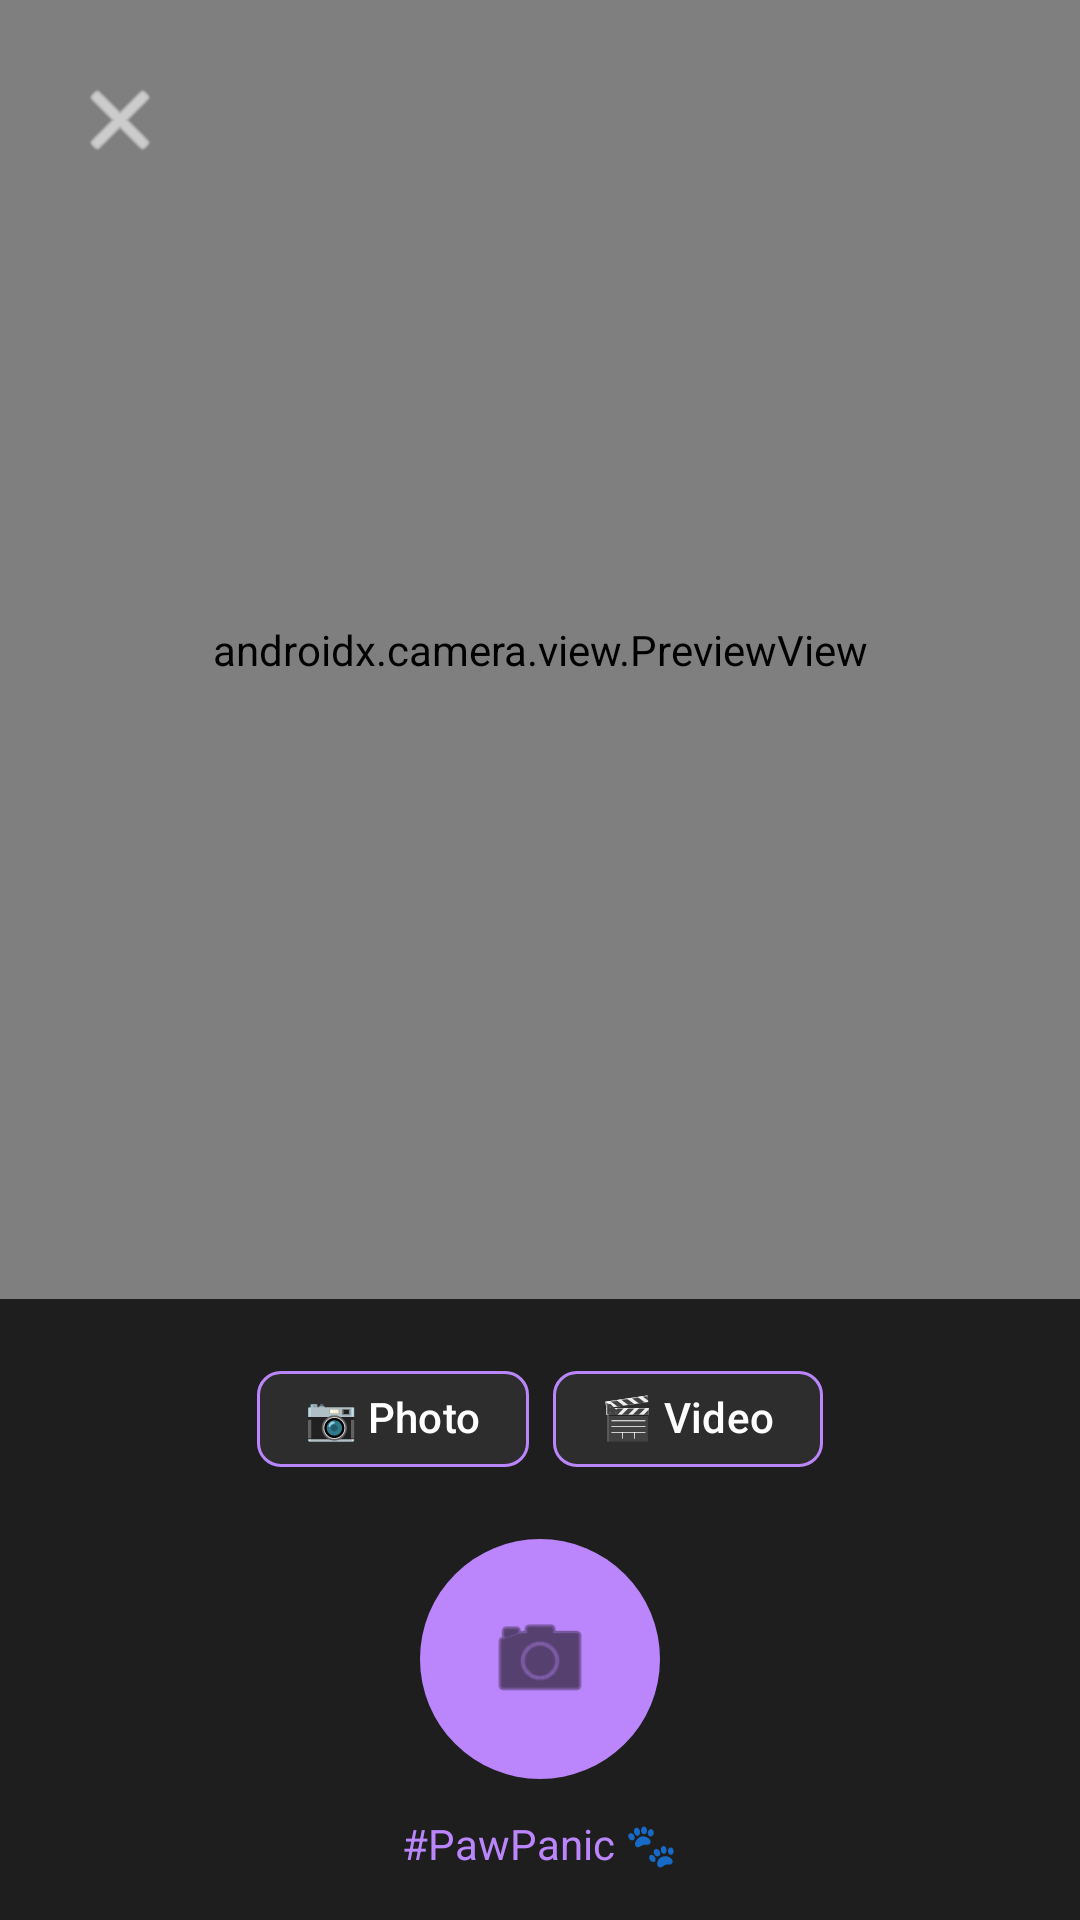

Where icons sit on this 1080 x 1920 app screen, as {"left": x1, "top": y1, "right": x2, "bottom": y2}:
camera: {"left": 420, "top": 1539, "right": 660, "bottom": 1779}
Close camera: {"left": 90, "top": 90, "right": 150, "bottom": 150}
